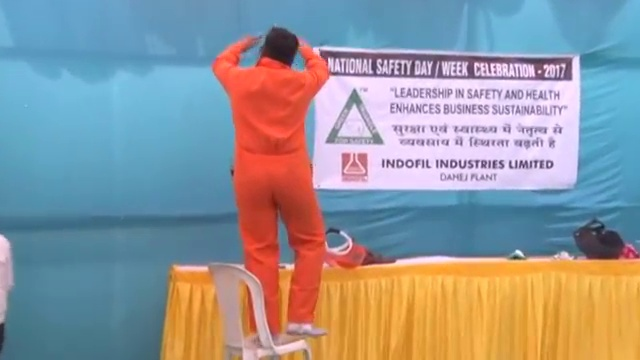helmet_off: (259, 26, 300, 69)
person: (208, 25, 335, 341)
